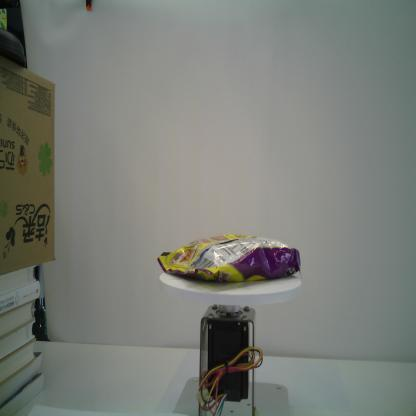Instant Noodles: (157, 233, 302, 284)
